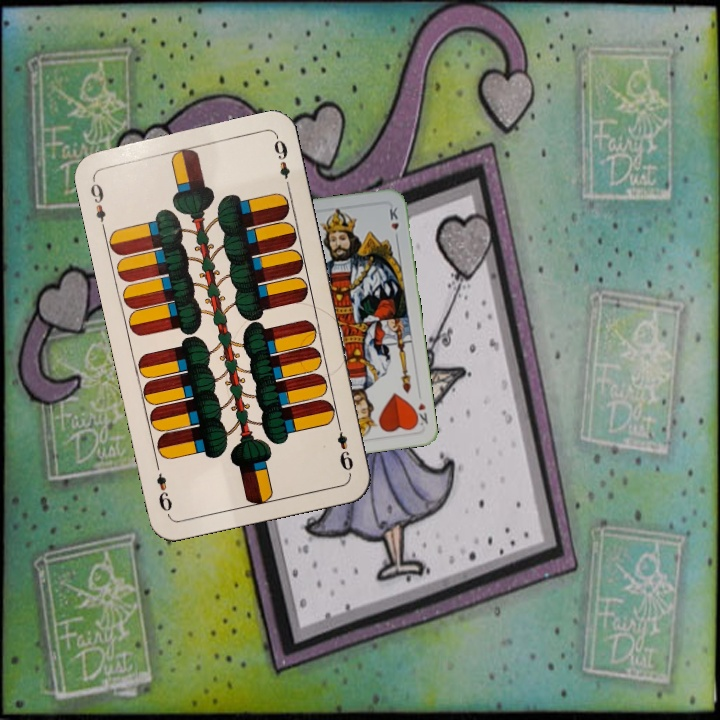E9: (333, 418, 356, 476), (86, 174, 108, 233)
HK: (410, 399, 430, 428)
